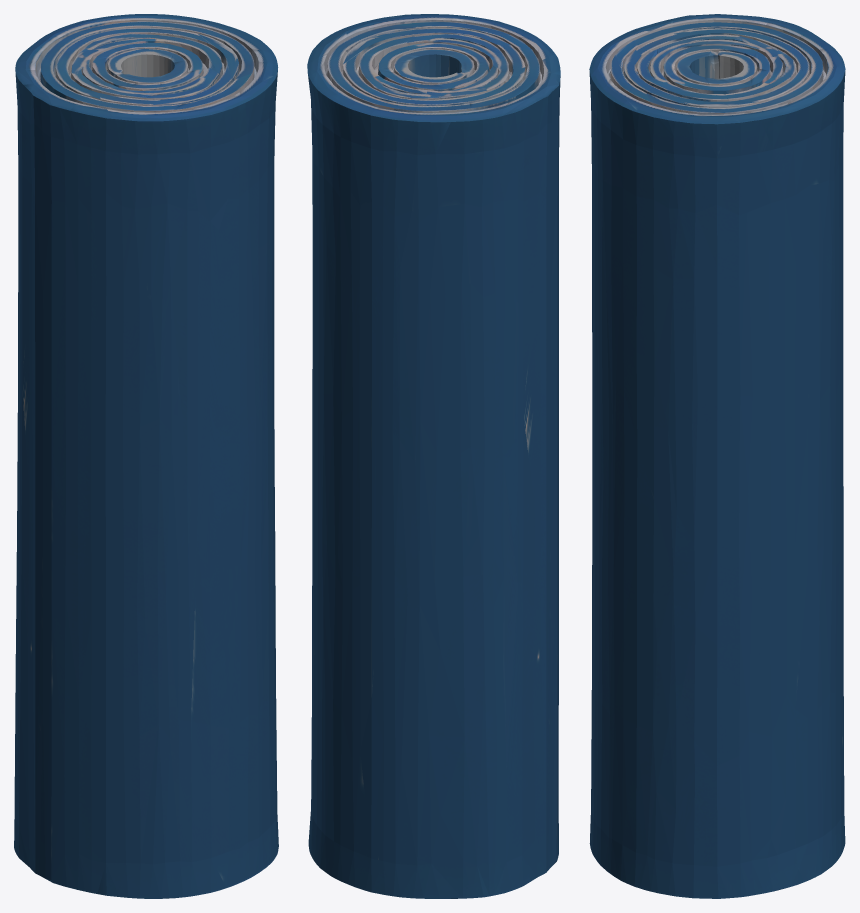
Rendered from mat_roll.glb.
3 views of the same model, side by side, from view 1: azimuth 30°, elevation 25°; view 2: azimuth 150°, elevation 25°; view 3: azimuth 270°, elevation 25° (orthographic).
Visible parts, largest first — view 1: mat_roll; view 2: mat_roll; view 3: mat_roll.
Part boxes in pixels (bbox=[...]): mat_roll: bbox=[14, 14, 278, 898]; mat_roll: bbox=[307, 14, 560, 898]; mat_roll: bbox=[589, 14, 845, 898].
Bounding box in the file's own units: 0.5471 × 1.8 × 0.5362.
Materials: 1 (1 with a texture image).
